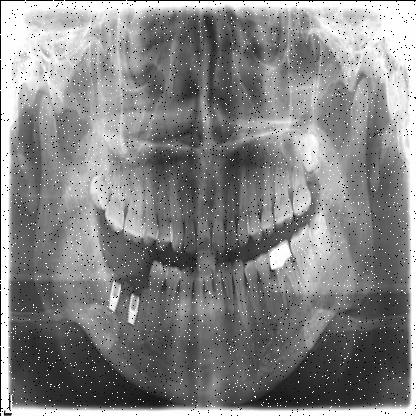Bicon: (123, 288, 141, 328), (104, 277, 121, 312)
